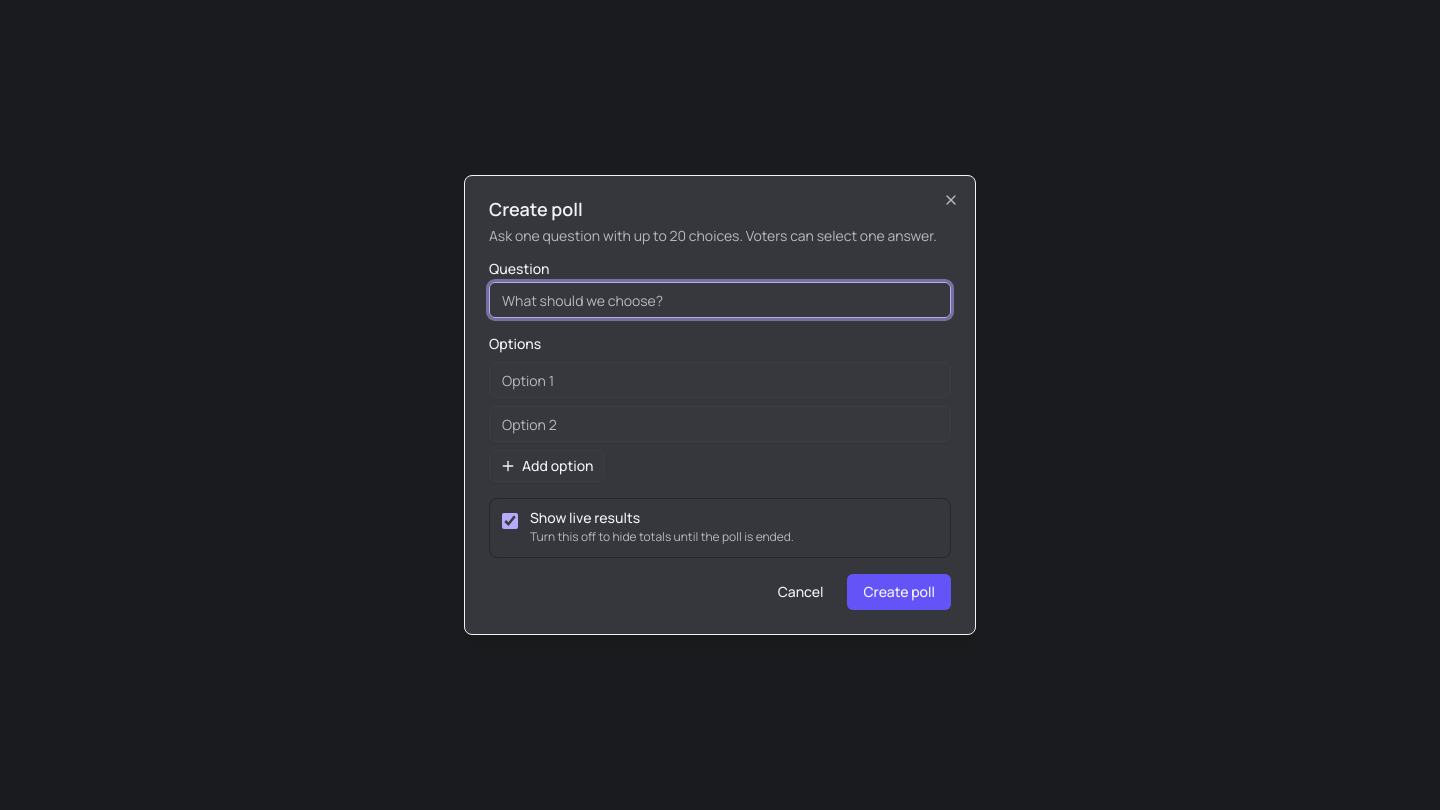
Test: PollDialog › rejects duplicate options before sending
Type "Lunch?" into the field labelled "Question" at (720, 300), box [489,282,951,318]
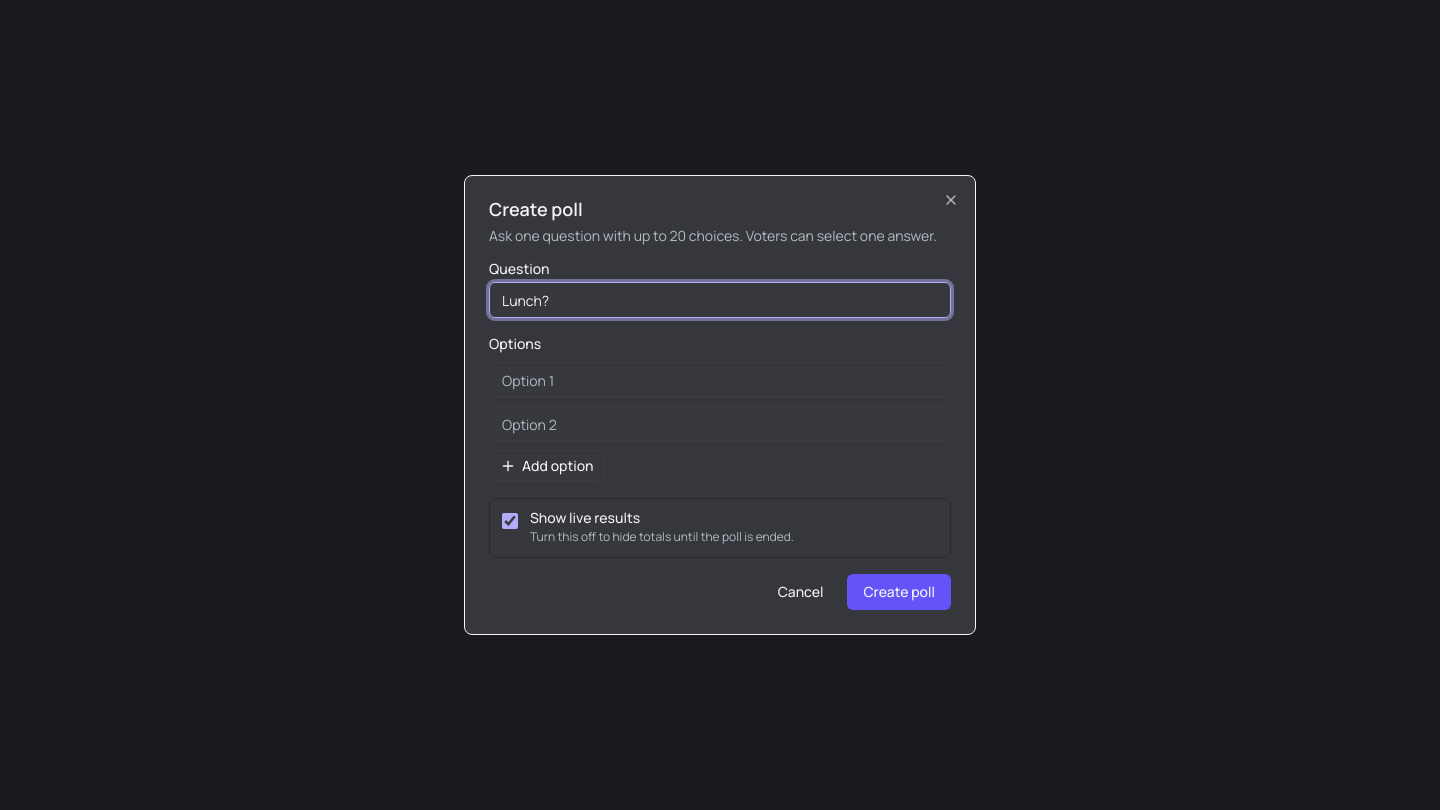
Type "Pizza" into the field labelled "Option 1" at (720, 380), box [489,362,951,398]
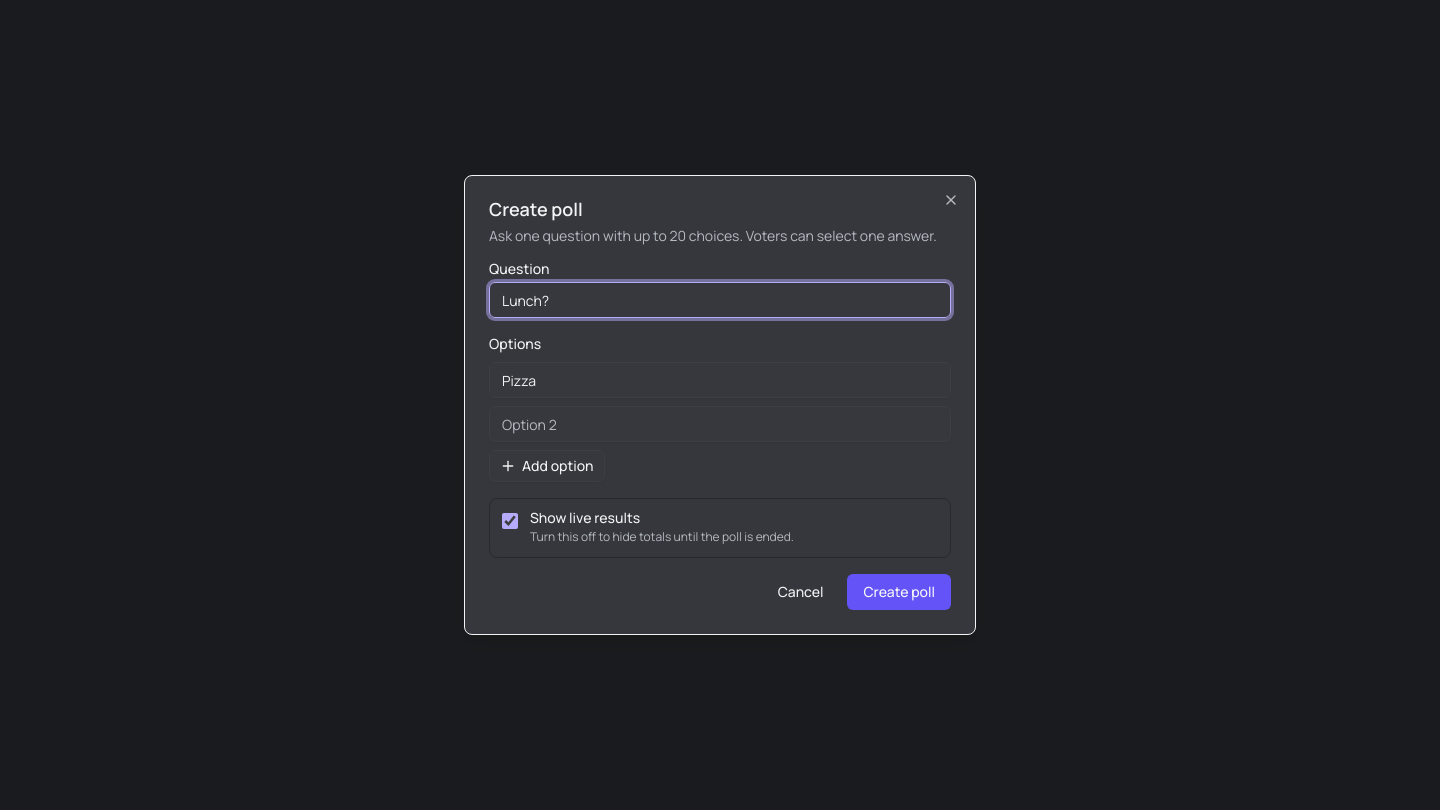
Type "pizza" into the field labelled "Option 2" at (720, 424), box [489,406,951,442]
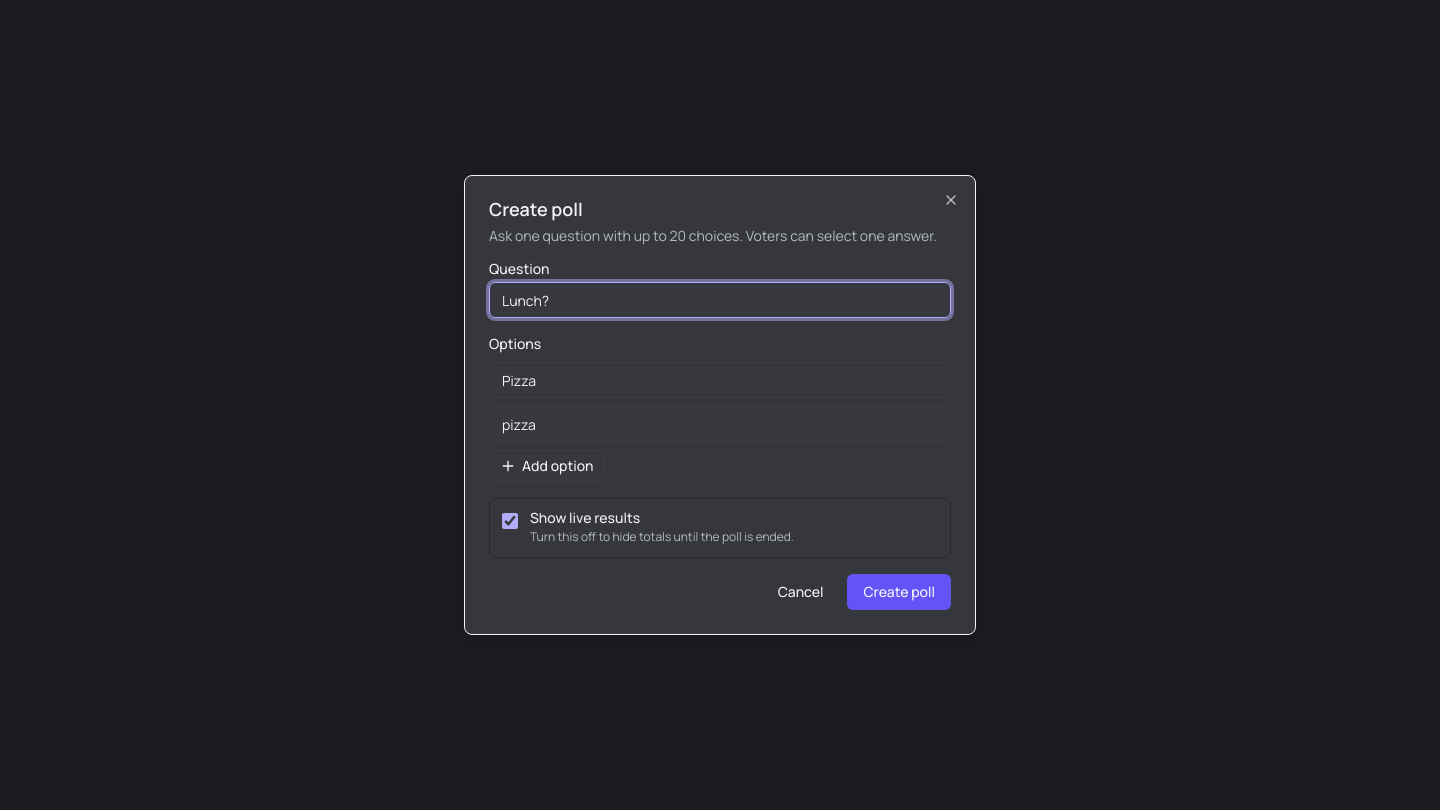
Click the button "Create poll" at (899, 592), box [848,574,951,610]
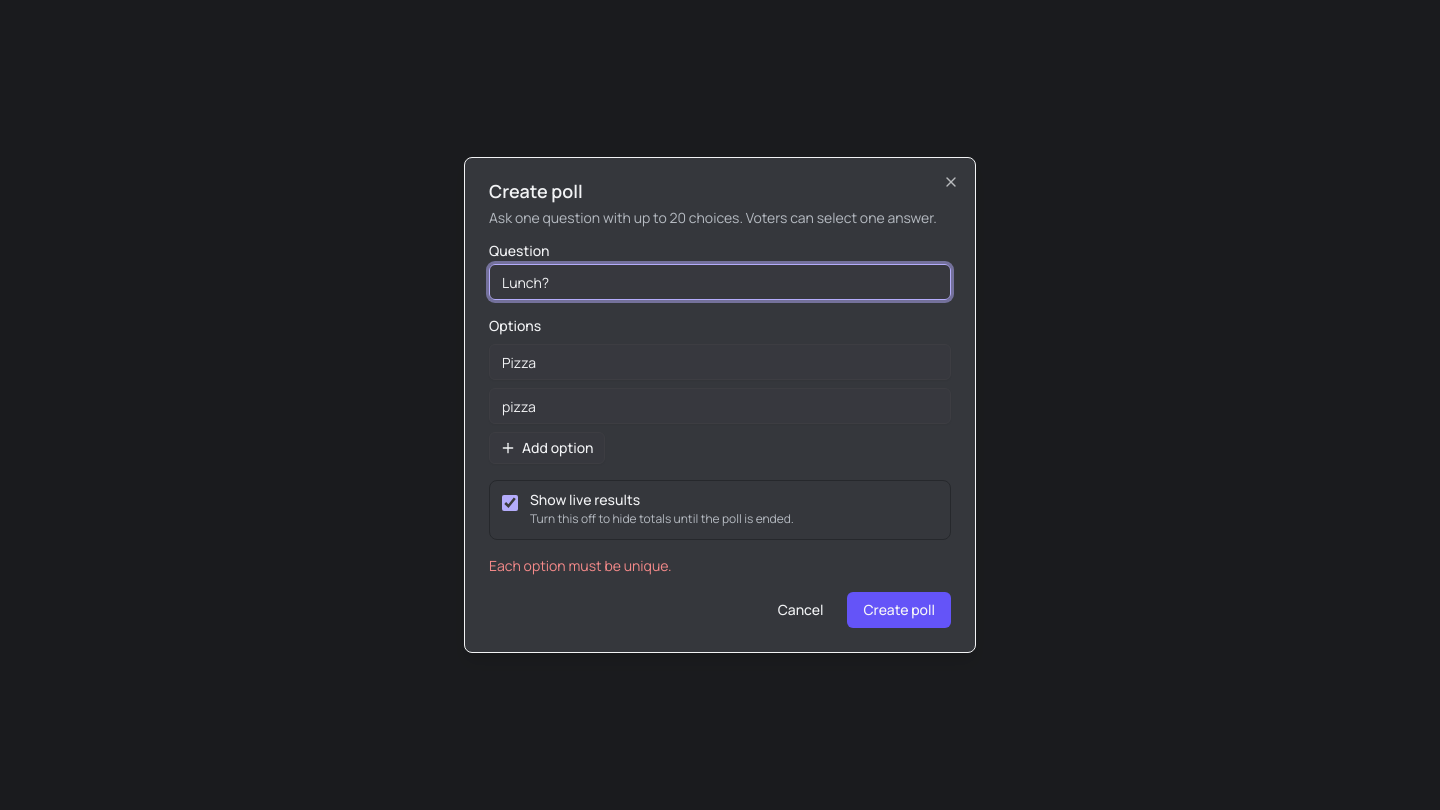
Expected: the message reads "Each option must be unique.", [489,556,672,575]
